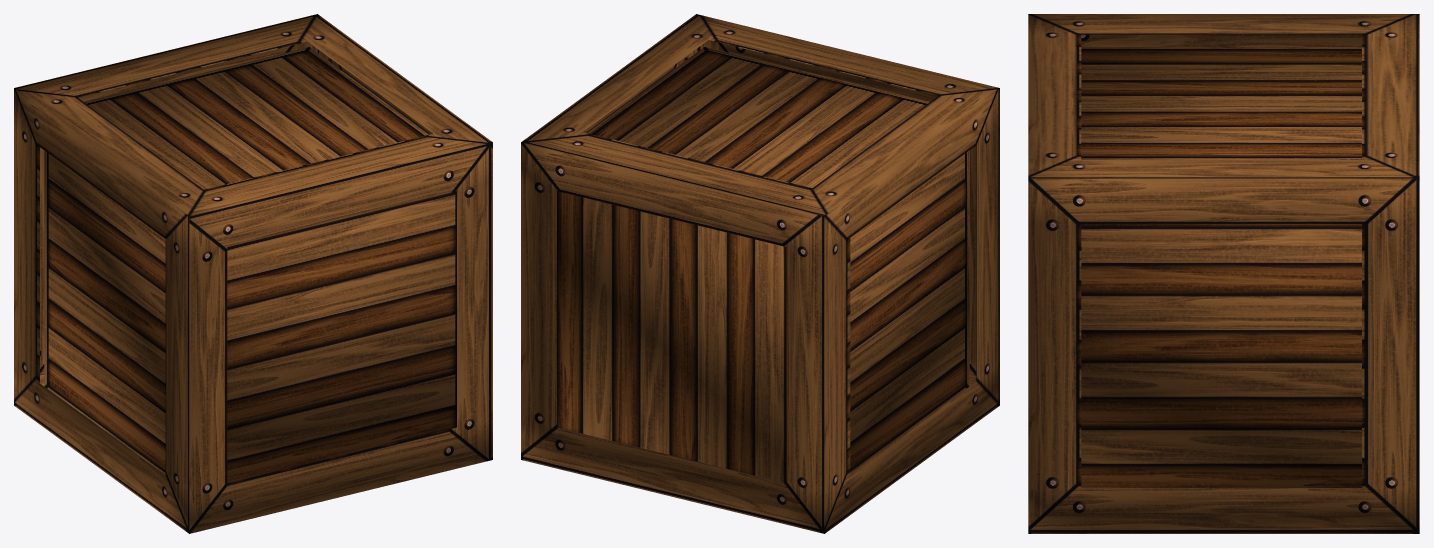
File: Crate_1.obj
3 views of the same model, side by side, from view 1: azimuth 30°, elevation 25°; view 2: azimuth 150°, elevation 25°; view 3: azimuth 270°, elevation 25° (orthographic). The views are drawn at different scales.
Visible parts, largest first — view 1: RootFrame, Cube001; view 2: RootFrame, Cube001; view 3: RootFrame, Cube001.
Part boxes in pixels (<box>): RootFrame: <box>44,47,456,483</box>; Cube001: <box>14,14,492,533</box>; RootFrame: <box>557,47,969,483</box>; Cube001: <box>521,14,999,533</box>; RootFrame: <box>1081,47,1361,487</box>; Cube001: <box>1028,14,1419,533</box>.
Bounding box in the file's own units: 2.29 × 2.29 × 2.29.
